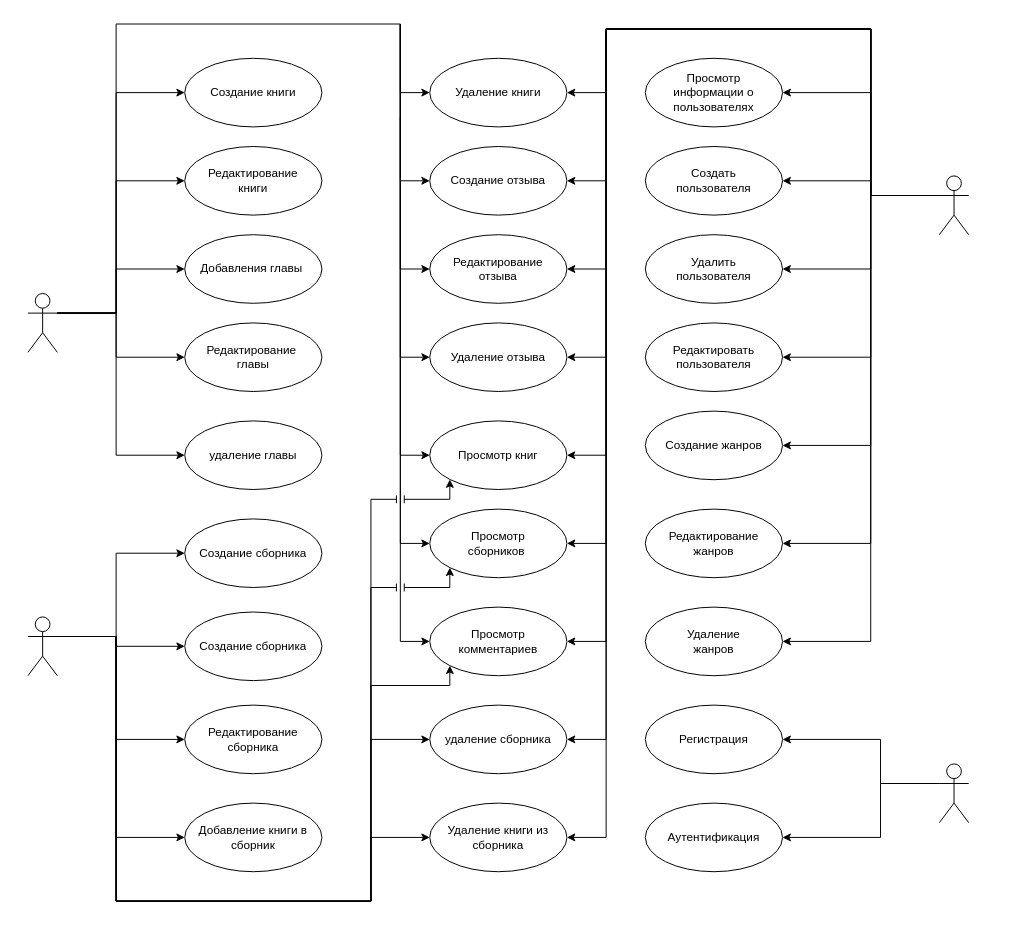
The diagram is 1013 pixels wide and 926 high, and some of its shapes have lost their labels. The shapes that lost their labels are listed below. From the top down, each one's centre as x and y in pixels, then its label:
(953,205): Администратор
(42,322): Писатель
(42,646): Читатель
(953,793): Гость
